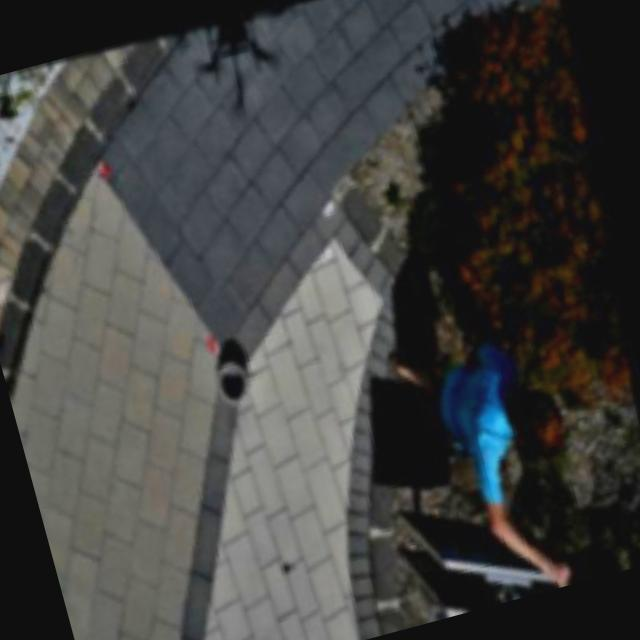Person: (367, 286, 640, 617)
